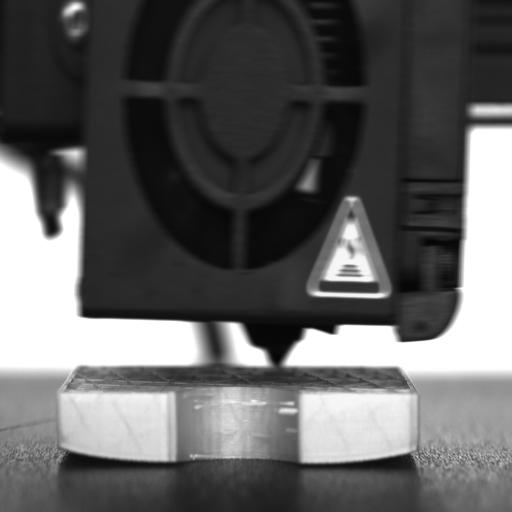warp: (301, 440, 422, 471), (56, 437, 147, 471)
